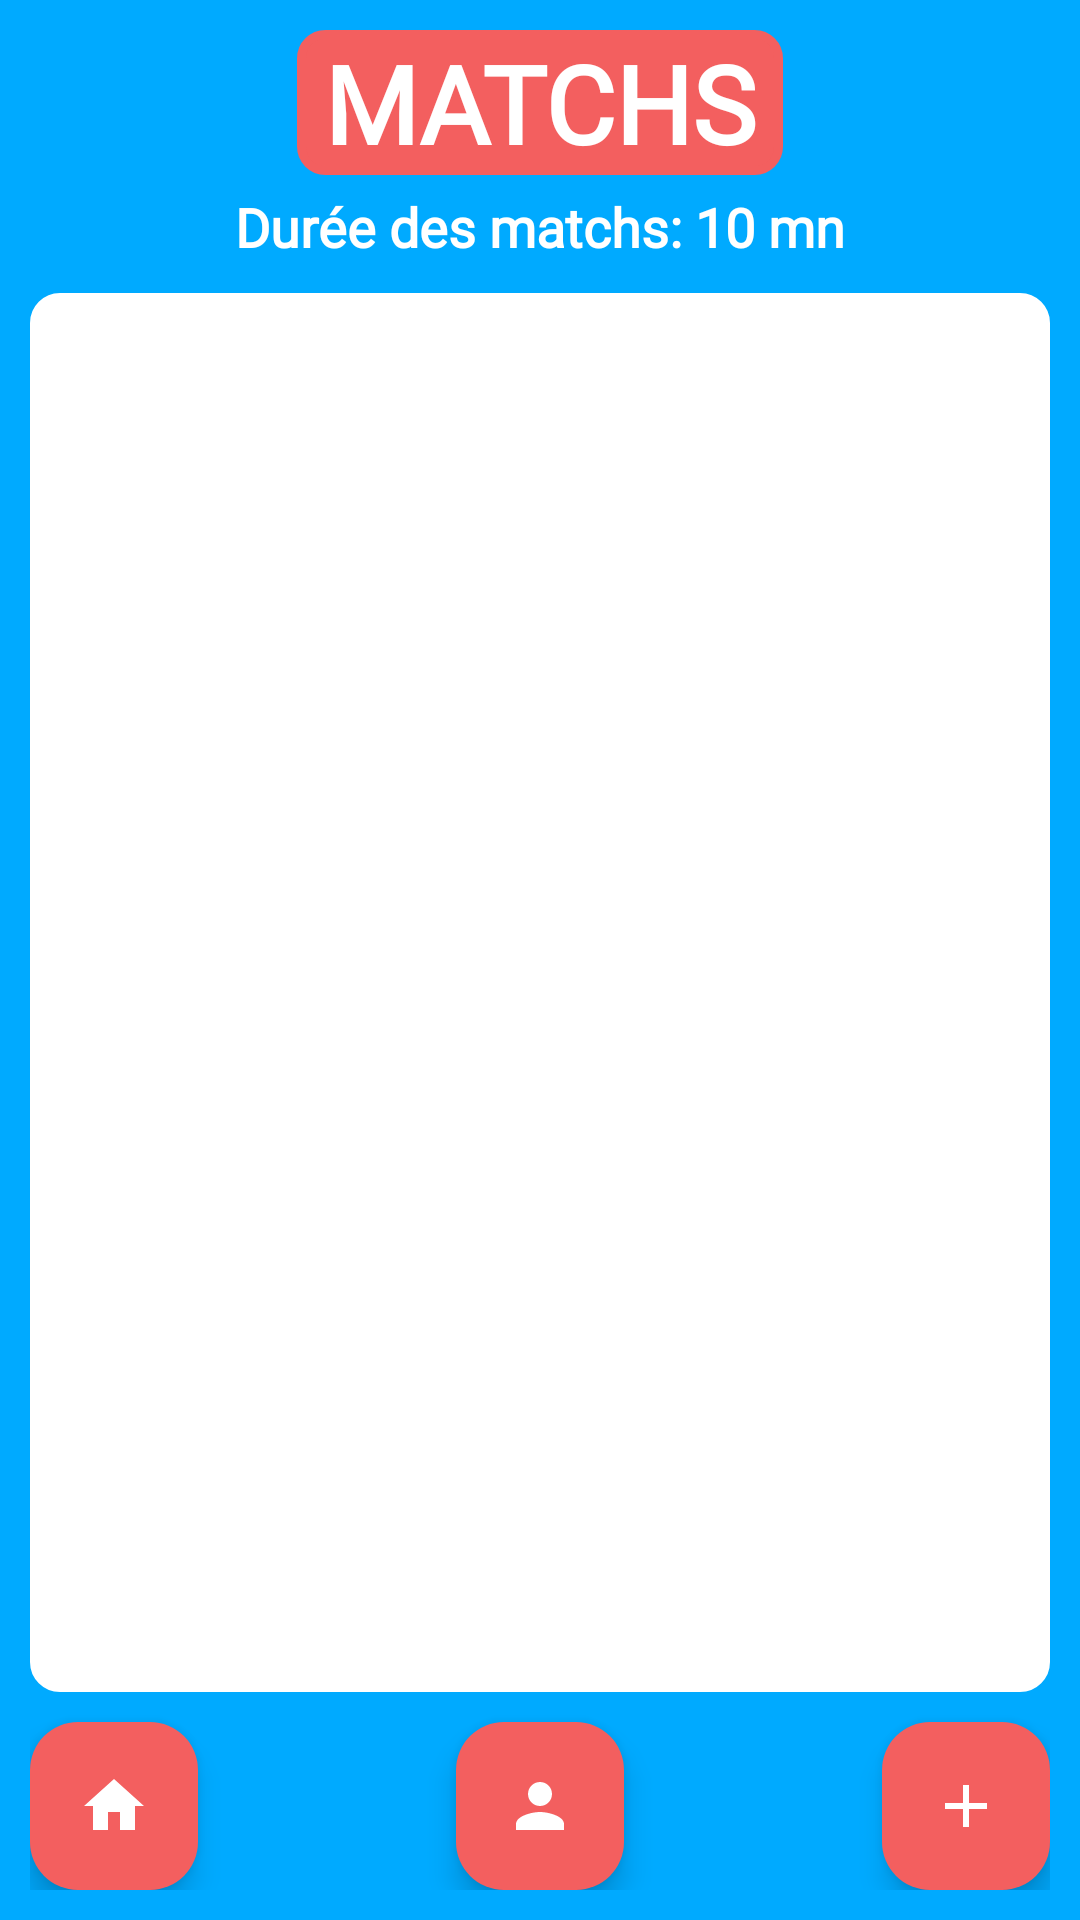

Icon bounding boxes for this 1080w x 1920h phone screenshot, format (x1, y1, x2, y2):
add: (882, 1722, 1050, 1890)
home: (30, 1722, 198, 1890)
players: (456, 1722, 624, 1890)
